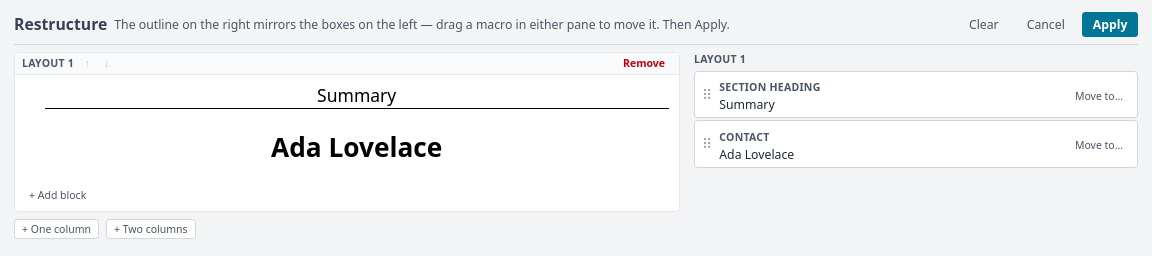
RestructureView › Clear empties both panes -- the outline mirrors the emptied staging
Click the button "Clear": (984, 24) [958, 12, 1009, 36]
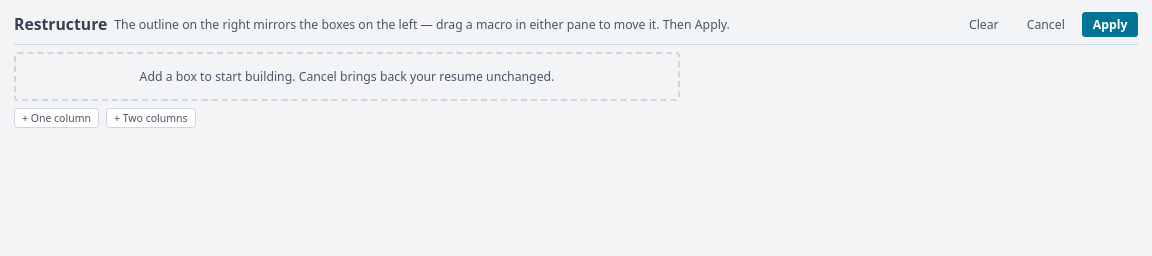
Now no elements with test id "staging-zone" are shown
Now no elements with test id "palette-card" are shown
Now the text "Add a box to start building. Cancel brings back your resume unchanged." is shown, box [14, 52, 680, 101]
